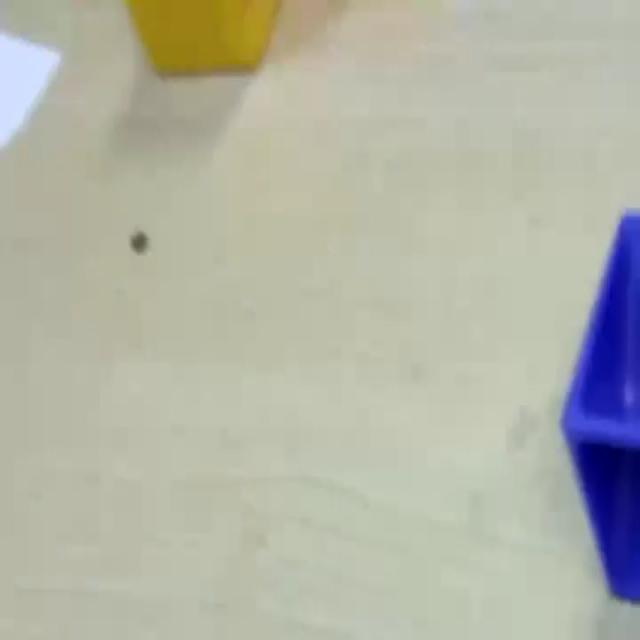blue_block: (559, 207, 638, 602)
yellow_block: (123, 0, 281, 76)
